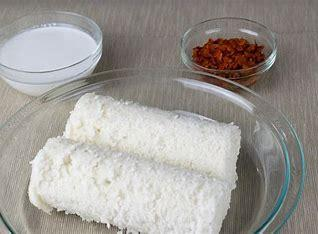Pittu: (29, 92, 266, 230)
